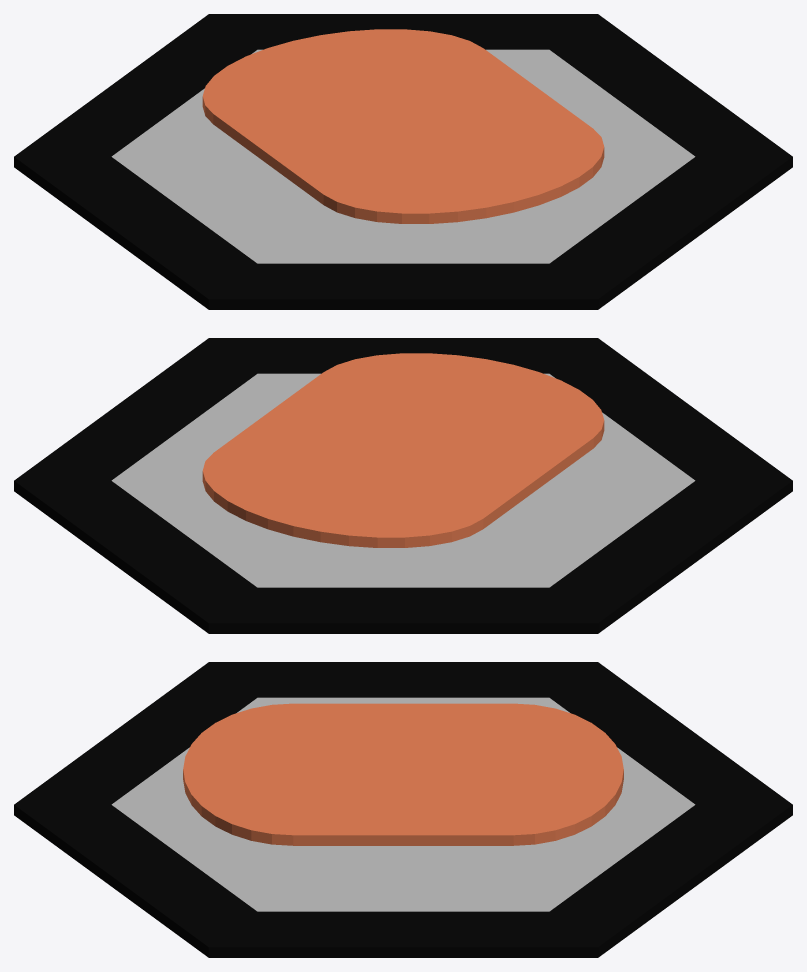
Rendered from cylinder_opt.fbx.
The picture shows the model from 3 angles, top to bottom: view 1: azimuth 30°, elevation 25°; view 2: azimuth 150°, elevation 25°; view 3: azimuth 270°, elevation 25°; orthographic projection.
Parts seen in each view (by area): view 1: Circle; view 2: Circle; view 3: Circle.
Part boxes in pixels (<box>): Circle: <box>14,14,792,309</box>; Circle: <box>14,338,792,633</box>; Circle: <box>14,662,792,957</box>.
Bounding box in the file's own units: 173 × 13 × 200.
